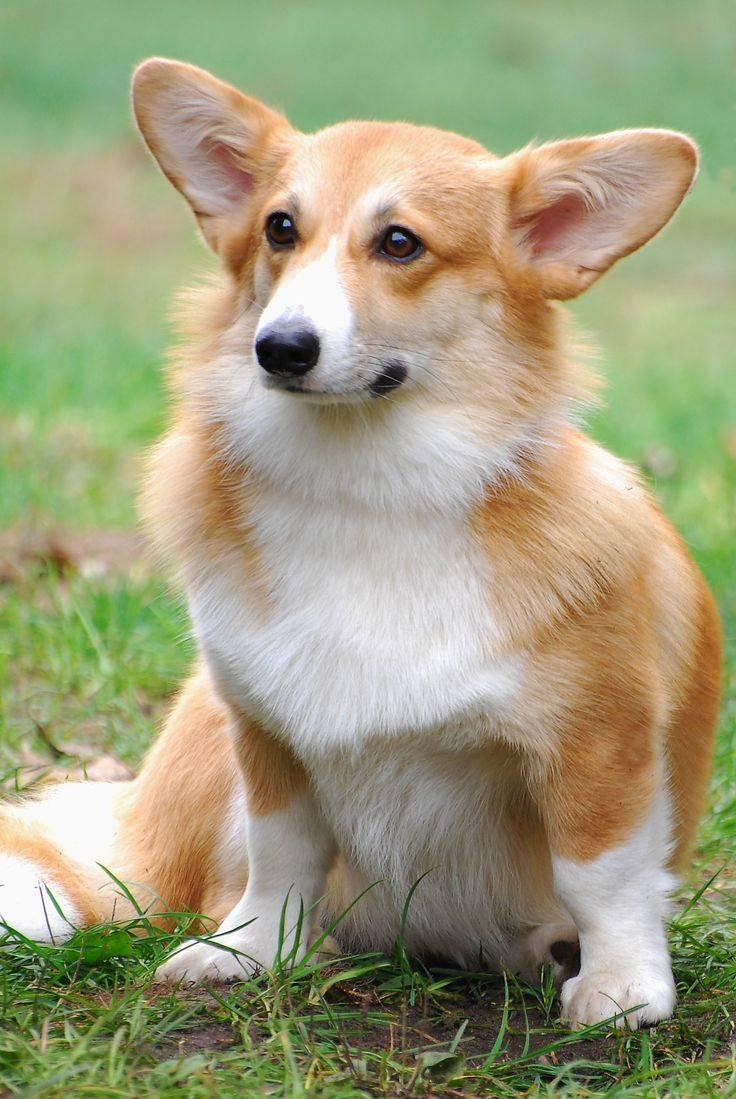dog: (181, 14, 736, 676)
